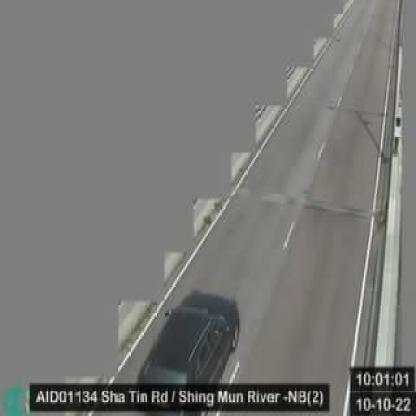Car: (138, 290, 240, 388)
